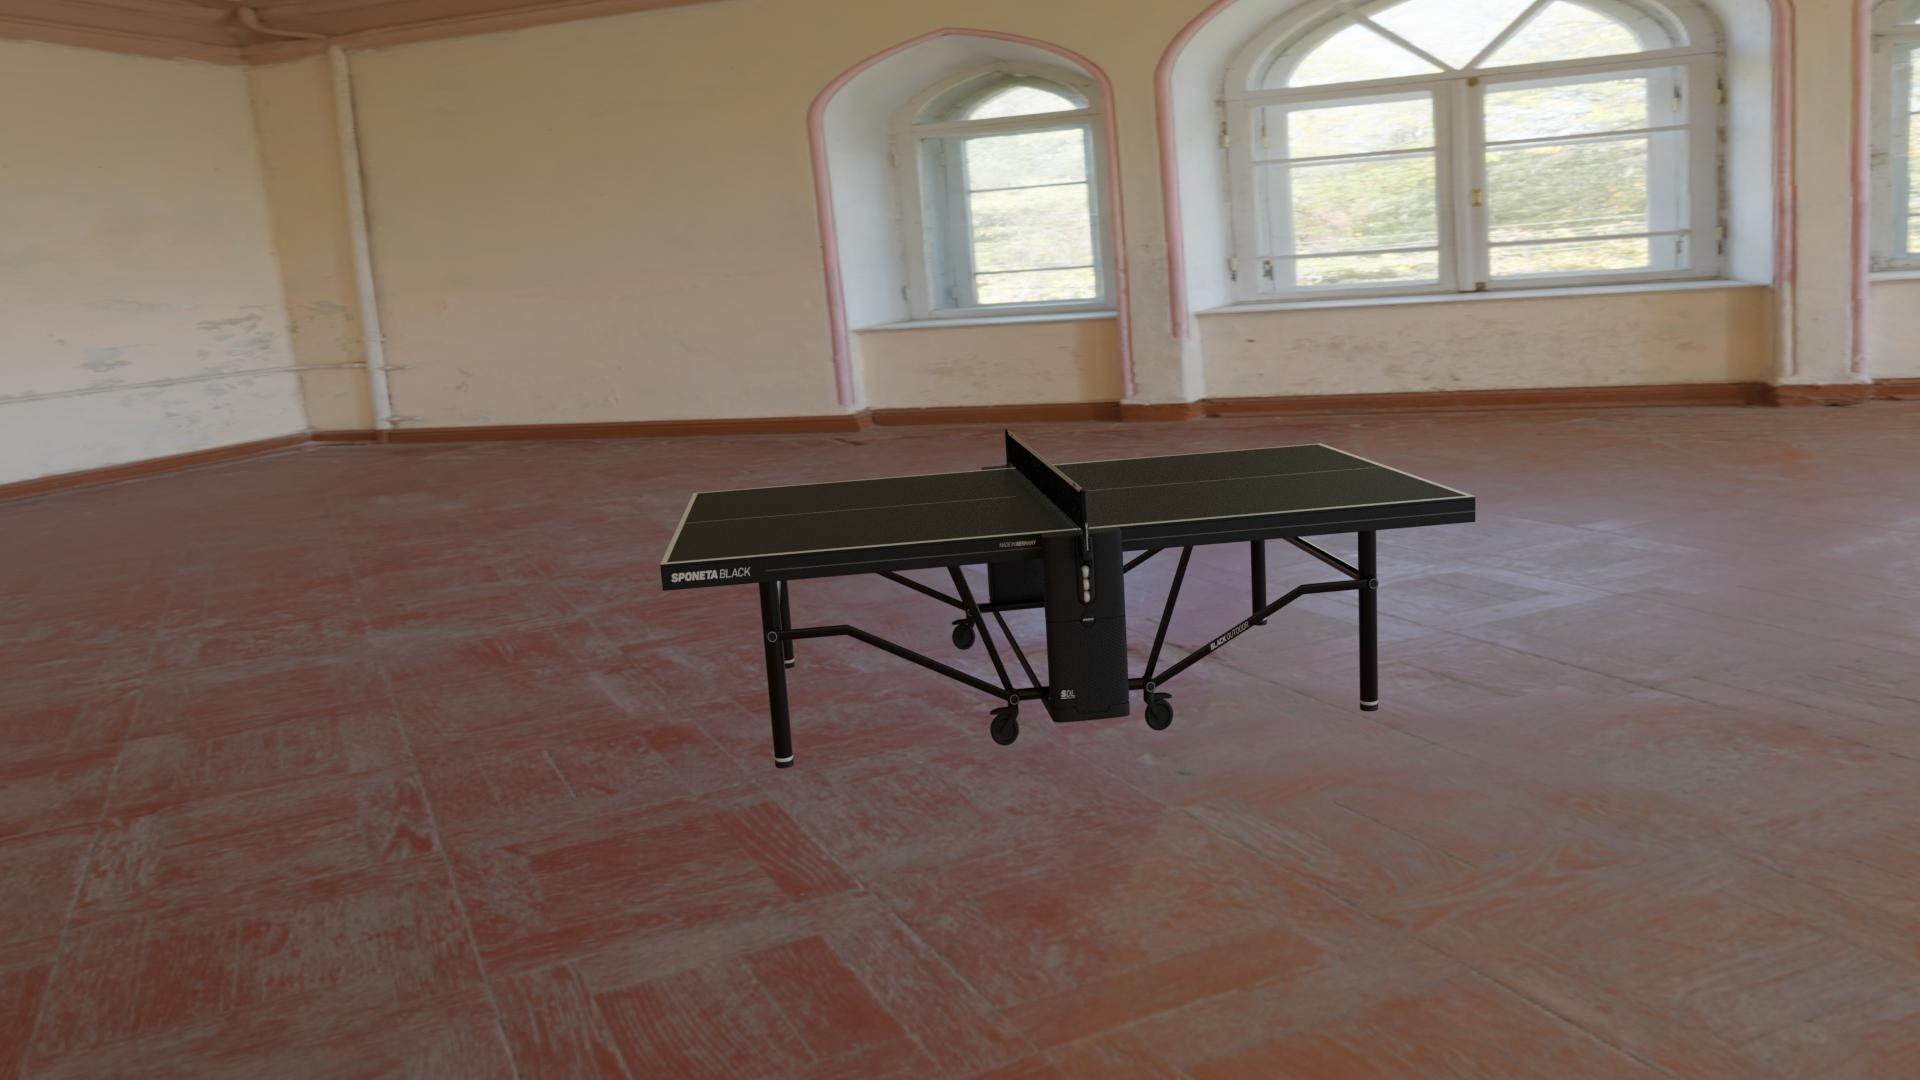table: (667, 444, 1468, 563)
